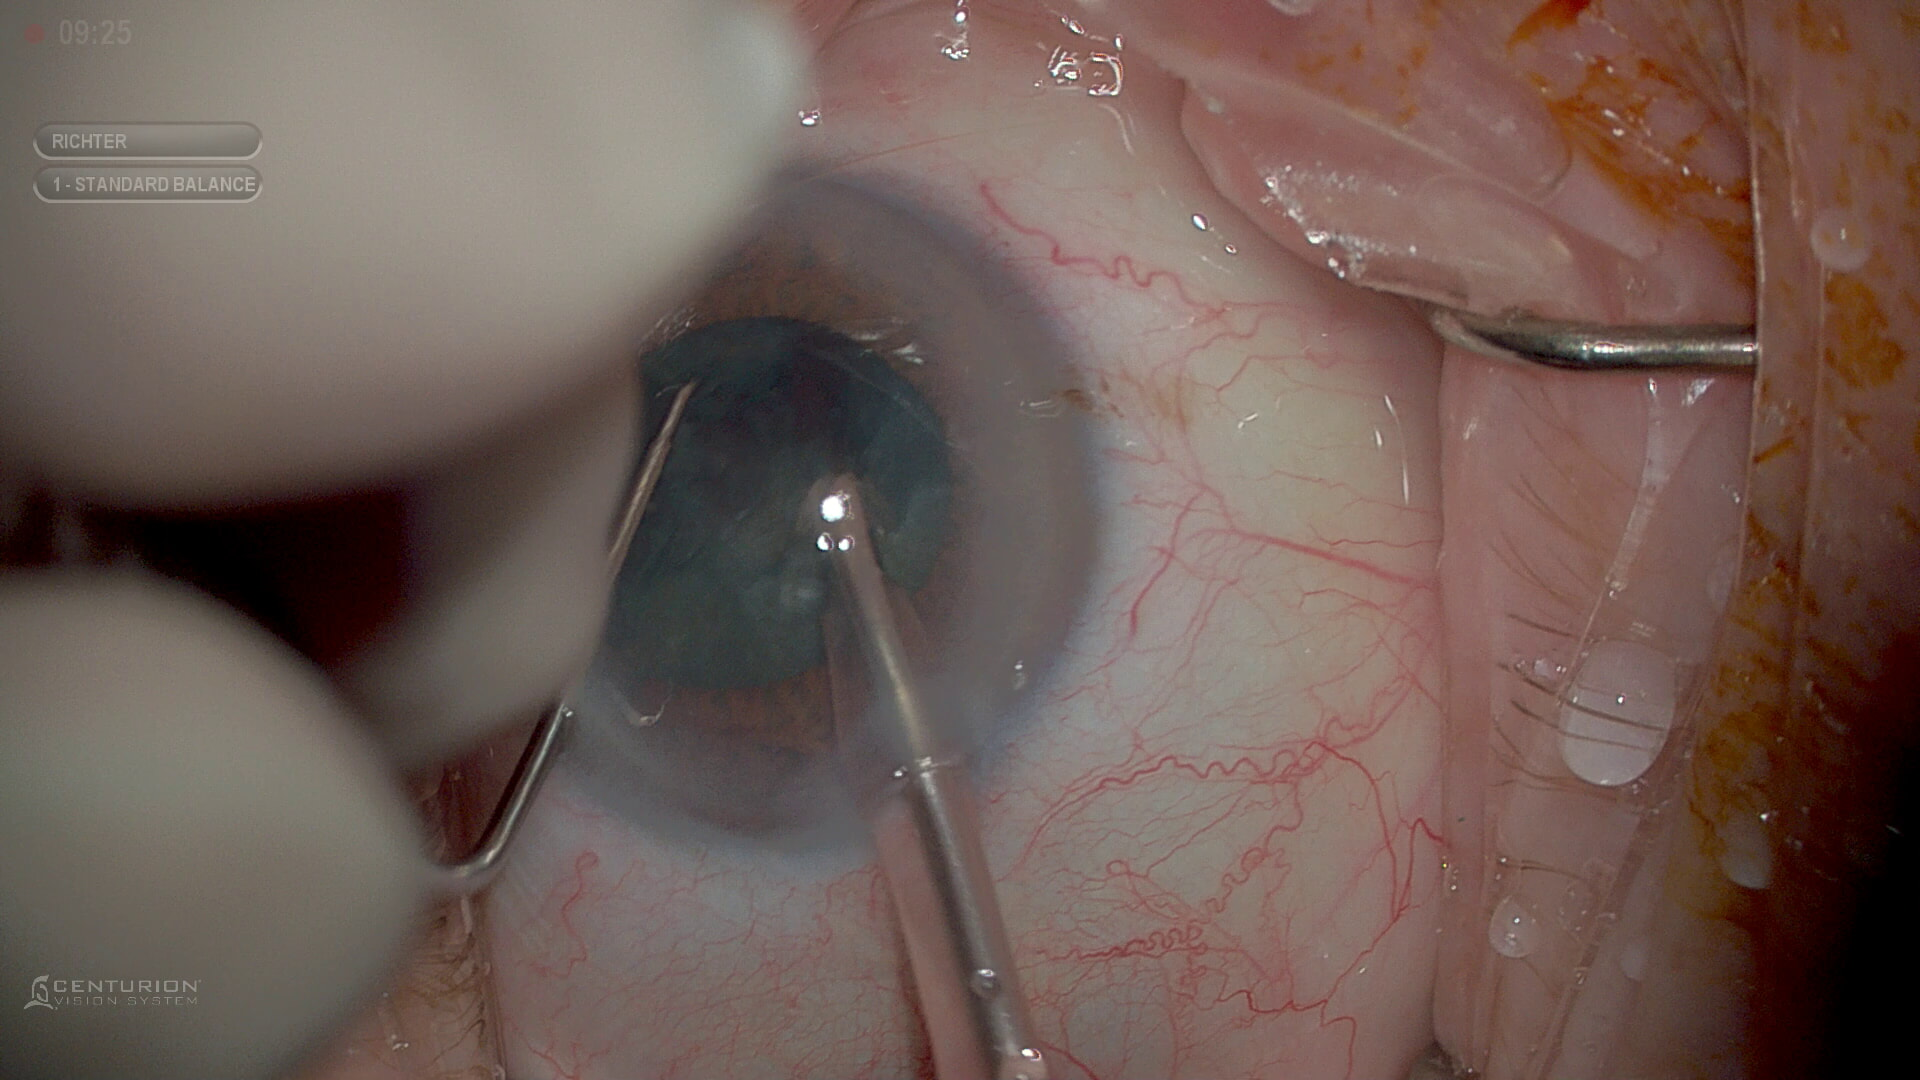iris: (528, 202, 1099, 822)
pupil: (594, 334, 950, 728)
